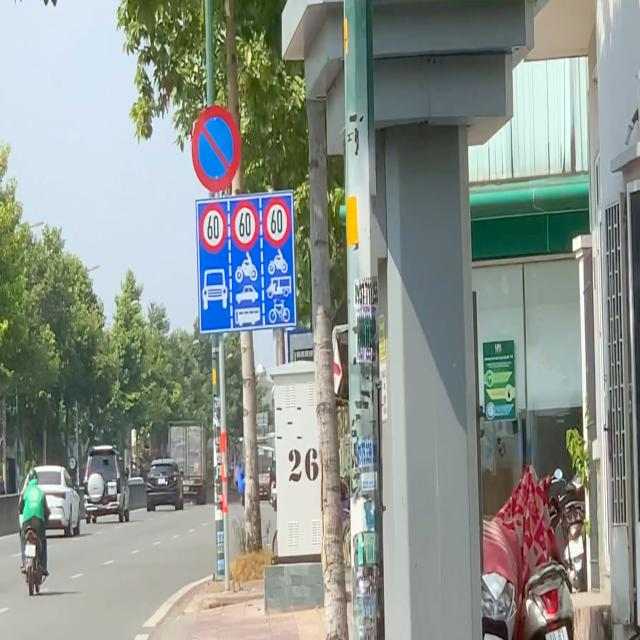Cam do: (192, 104, 241, 194)
Toc do toi da: (230, 200, 259, 251), (263, 196, 291, 248), (199, 202, 228, 252)
